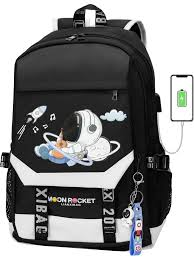bag: (11, 10, 170, 254)
